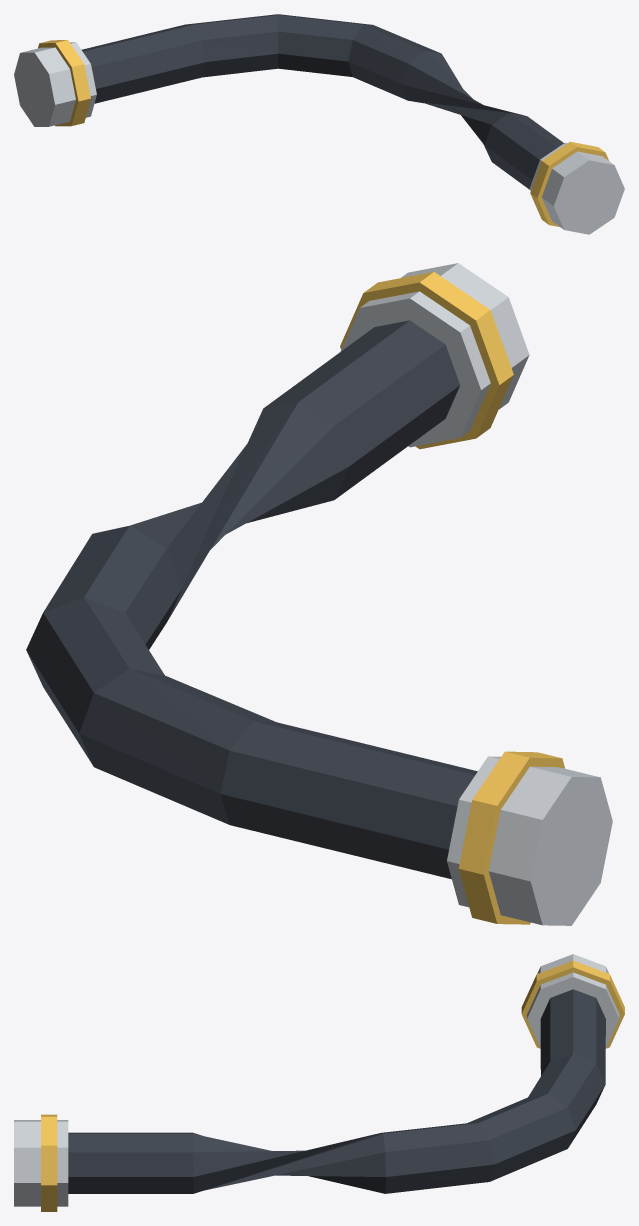
File: hose_90_bend.glb
3 views of the same model, one above another, from view 1: azimuth 30°, elevation 25°; view 2: azimuth 150°, elevation 25°; view 3: azimuth 270°, elevation 25° (orthographic). The views are drawn at different scales.
Parts seen in each view (by area): view 1: DL016_Hose90_rubber_dark, DL016_Hose90_titanium, DL016_Hose90_amber_accent; view 2: DL016_Hose90_rubber_dark, DL016_Hose90_titanium, DL016_Hose90_amber_accent; view 3: DL016_Hose90_rubber_dark, DL016_Hose90_titanium, DL016_Hose90_amber_accent.
Boxes of the visible parts, x1,y1,x2,y2 form: DL016_Hose90_rubber_dark: (81,14,563,189); DL016_Hose90_titanium: (14,42,624,234); DL016_Hose90_amber_accent: (38,40,608,226); DL016_Hose90_rubber_dark: (26,320,477,879); DL016_Hose90_titanium: (340,263,612,925); DL016_Hose90_amber_accent: (340,272,564,924); DL016_Hose90_rubber_dark: (68,989,605,1193); DL016_Hose90_titanium: (14,954,619,1206); DL016_Hose90_amber_accent: (41,960,624,1211).
Bounding box in the file's own units: 1.65 × 0.3808 × 2.25.
